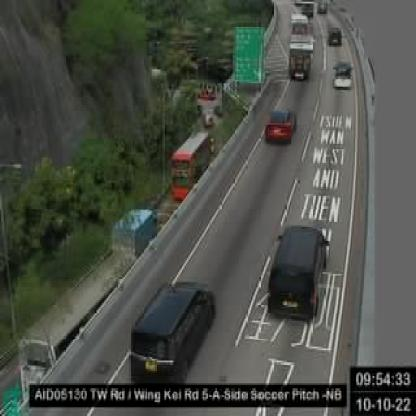Bus: (170, 132, 212, 199)
Car: (130, 284, 212, 382), (268, 221, 332, 318), (266, 106, 295, 144), (334, 62, 352, 87), (328, 29, 340, 46)
Truck: (288, 31, 313, 80)
